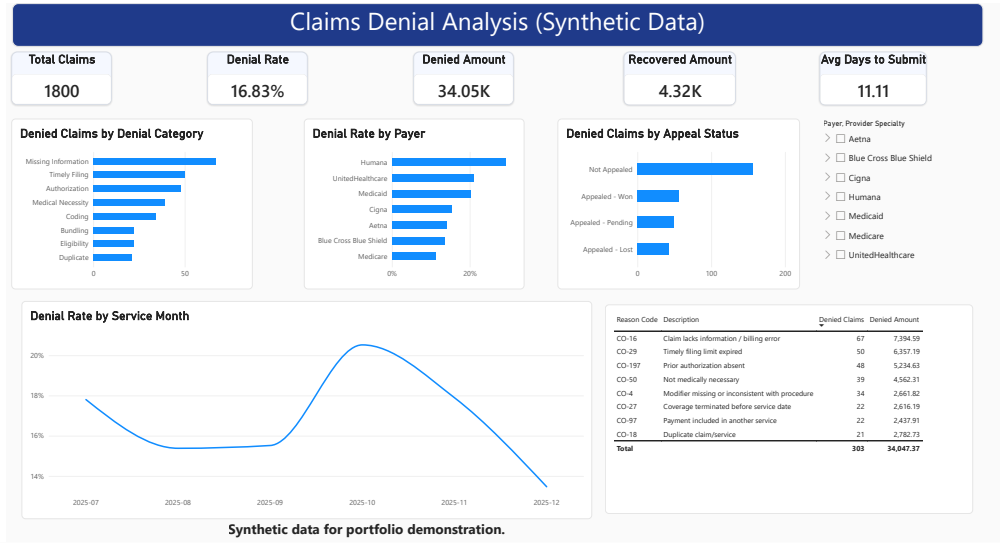

Layout of this report page (visuals, bound fields, positions):
{"tool":"powerbi","page":{"name":"Page 1","canvas":[1920,1080],"ordinal":0},"visuals":[{"type":"textbox","box":[11.1,0,1908.3,85],"z":0},{"type":"cardVisual","title":"Total Claims","fields":{"Data":["public claims_clean.Total_claims"]},"box":[10,95,197,104],"z":1},{"type":"cardVisual","title":"Denial Rate","fields":{"Data":["public claims_clean.Denial Rate %"]},"box":[395,95,197,104],"z":2},{"type":"cardVisual","title":"Denied Amount","fields":{"Data":["public claims_clean.Denied Amount"]},"box":[800,95,197,104],"z":6},{"type":"cardVisual","title":"Recovered Amount","fields":{"Data":["public claims_clean.Recovered Amount"]},"box":[1212.5,95,220,105],"z":7},{"type":"cardVisual","title":"Avg Days to Submit","fields":{"Data":["public claims_clean.Avg Days to submit"]},"box":[1597.5,95,210,105],"z":8},{"type":"clusteredBarChart","title":"Denial Rate by Payer","fields":{"Category":["public claims_clean.payer"],"Y":["public claims_clean.Denial Rate %"]},"box":[584.6,226.8,433.4,335.1],"z":9},{"type":"clusteredBarChart","title":"Denied Claims by Denial Category","fields":{"Category":["public claims_clean.denial_category"],"Y":["public claims_clean.Denied_claims"]},"box":[10.1,226.8,473.7,335.1],"z":10},{"type":"lineChart","title":"Denial Rate by Service Month","fields":{"Category":["public claims_clean.service_month"],"Y":["public claims_clean.Denial Rate %"]},"box":[30.2,584.6,1121.3,428.3],"z":11},{"type":"clusteredBarChart","title":"Denied Claims by Appeal Status","fields":{"Category":["public claims_clean.appeal_status"],"Y":["public claims_clean.Denied_claims"]},"box":[1083.5,226.8,476.2,335.1],"z":12},{"type":"tableEx","fields":{"Values":["public claims_clean.denial_reason_code","public claims_clean.denial_reason_description","public claims_clean.Denied_claims","public claims_clean.Denied Amount"]},"box":[1176.7,592.1,723.1,410.7],"z":13},{"type":"slicer","fields":{"Values":["public claims_clean.payer","public claims_clean.provider_specialty"]},"box":[1597.5,227.5,294.3,312.9],"z":14},{"type":"textbox","box":[420,1012.5,577.5,67.5],"z":15}]}

Visuals, with their boxes on the page's 1920x1080 design canvas (x1, y1, x2, y2). These are canvas units, not pixel positions in the 1000x543 screenshot, which may show the page scaled, cropped or inside an application window:
textbox: left=11, top=0, right=1919, bottom=85
"Total Claims" cardVisual: left=10, top=95, right=207, bottom=199
"Denial Rate" cardVisual: left=395, top=95, right=592, bottom=199
"Denied Amount" cardVisual: left=800, top=95, right=997, bottom=199
"Recovered Amount" cardVisual: left=1212, top=95, right=1432, bottom=200
"Avg Days to Submit" cardVisual: left=1598, top=95, right=1808, bottom=200
"Denial Rate by Payer" clusteredBarChart: left=585, top=227, right=1018, bottom=562
"Denied Claims by Denial Category" clusteredBarChart: left=10, top=227, right=484, bottom=562
"Denial Rate by Service Month" lineChart: left=30, top=585, right=1152, bottom=1013
"Denied Claims by Appeal Status" clusteredBarChart: left=1084, top=227, right=1560, bottom=562
tableEx - public claims_clean.denial_reason_code x public claims_clean.denial_reason_description: left=1177, top=592, right=1900, bottom=1003
slicer - public claims_clean.payer x public claims_clean.provider_specialty: left=1598, top=228, right=1892, bottom=540
textbox: left=420, top=1012, right=998, bottom=1080
